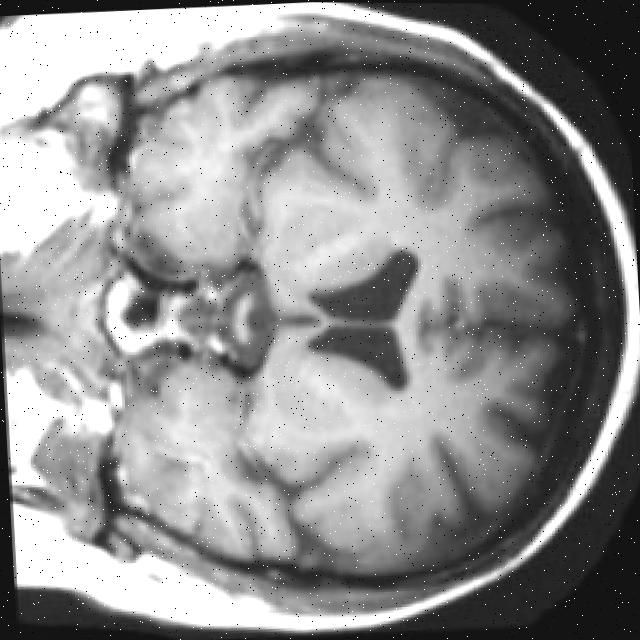NoTumor: (89, 1, 640, 640)
